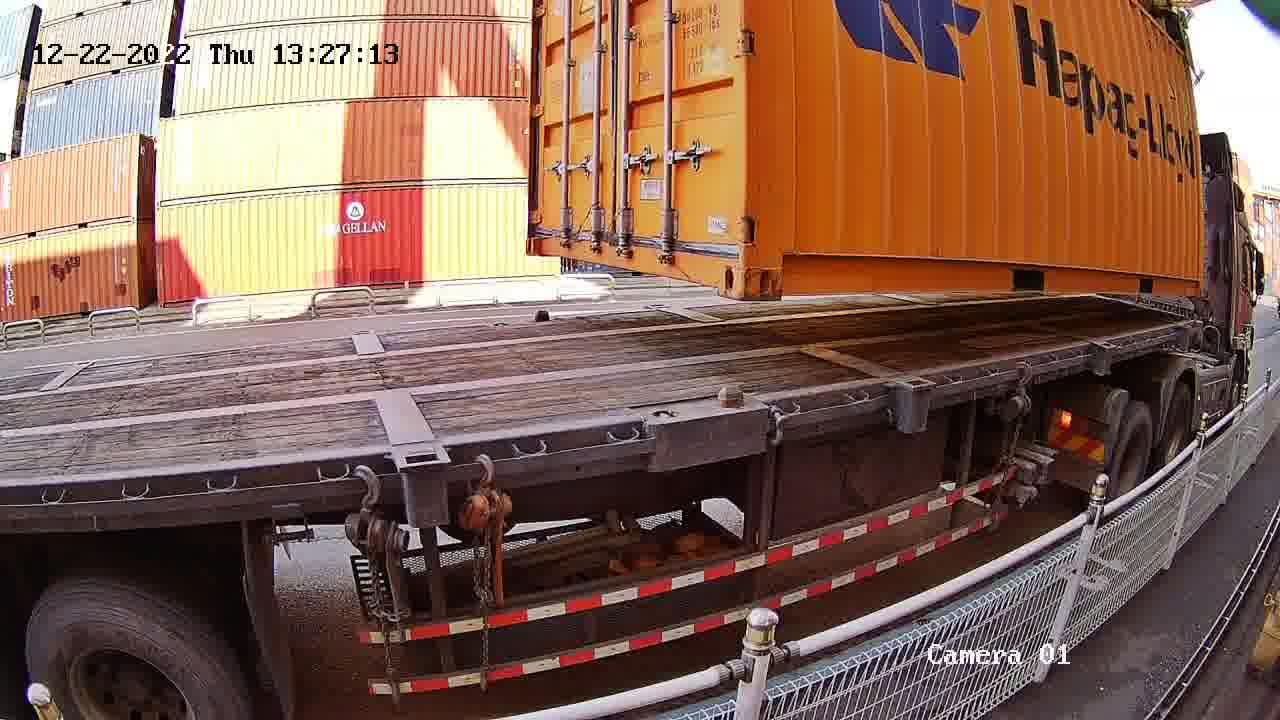Chassis: (529, 315, 749, 411), (488, 319, 688, 423)
Cone: (714, 384, 747, 457), (648, 406, 681, 471), (531, 304, 555, 325)
Hole_L: (740, 232, 818, 301), (524, 216, 561, 258)
Hole_R: (691, 232, 745, 301)
Tire: (1110, 405, 1152, 512), (1162, 386, 1191, 475)
